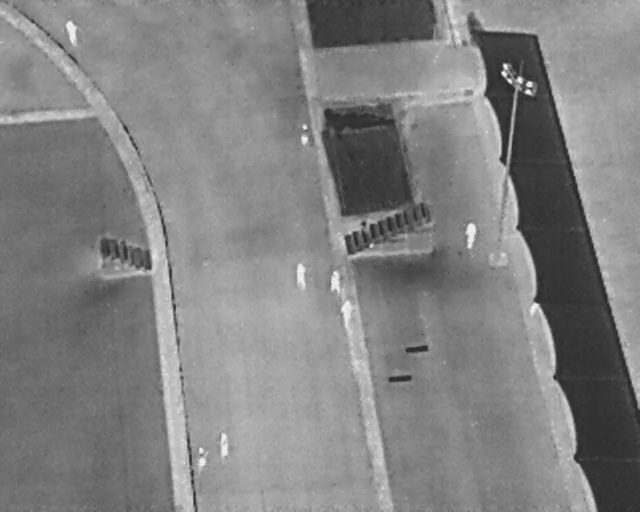Person: (61, 18, 82, 49), (338, 301, 354, 325), (464, 222, 477, 248), (295, 264, 308, 288), (196, 447, 208, 473), (219, 433, 230, 459), (330, 270, 341, 294), (300, 124, 310, 147)
